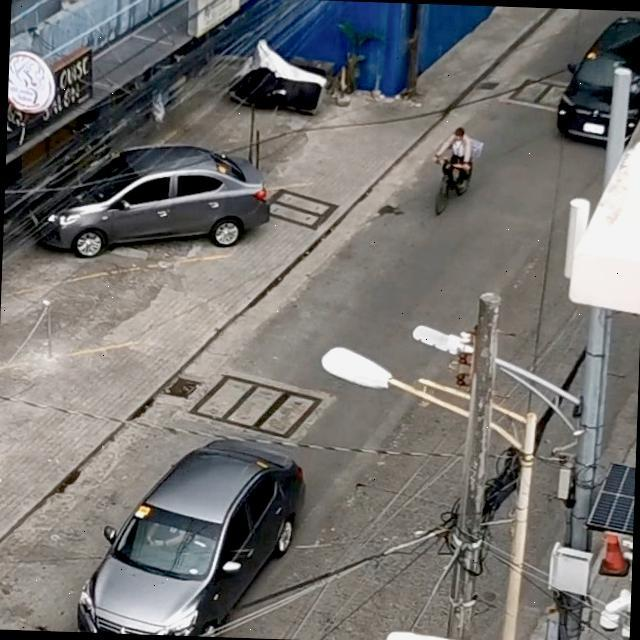Bike: (432, 150, 471, 216)
